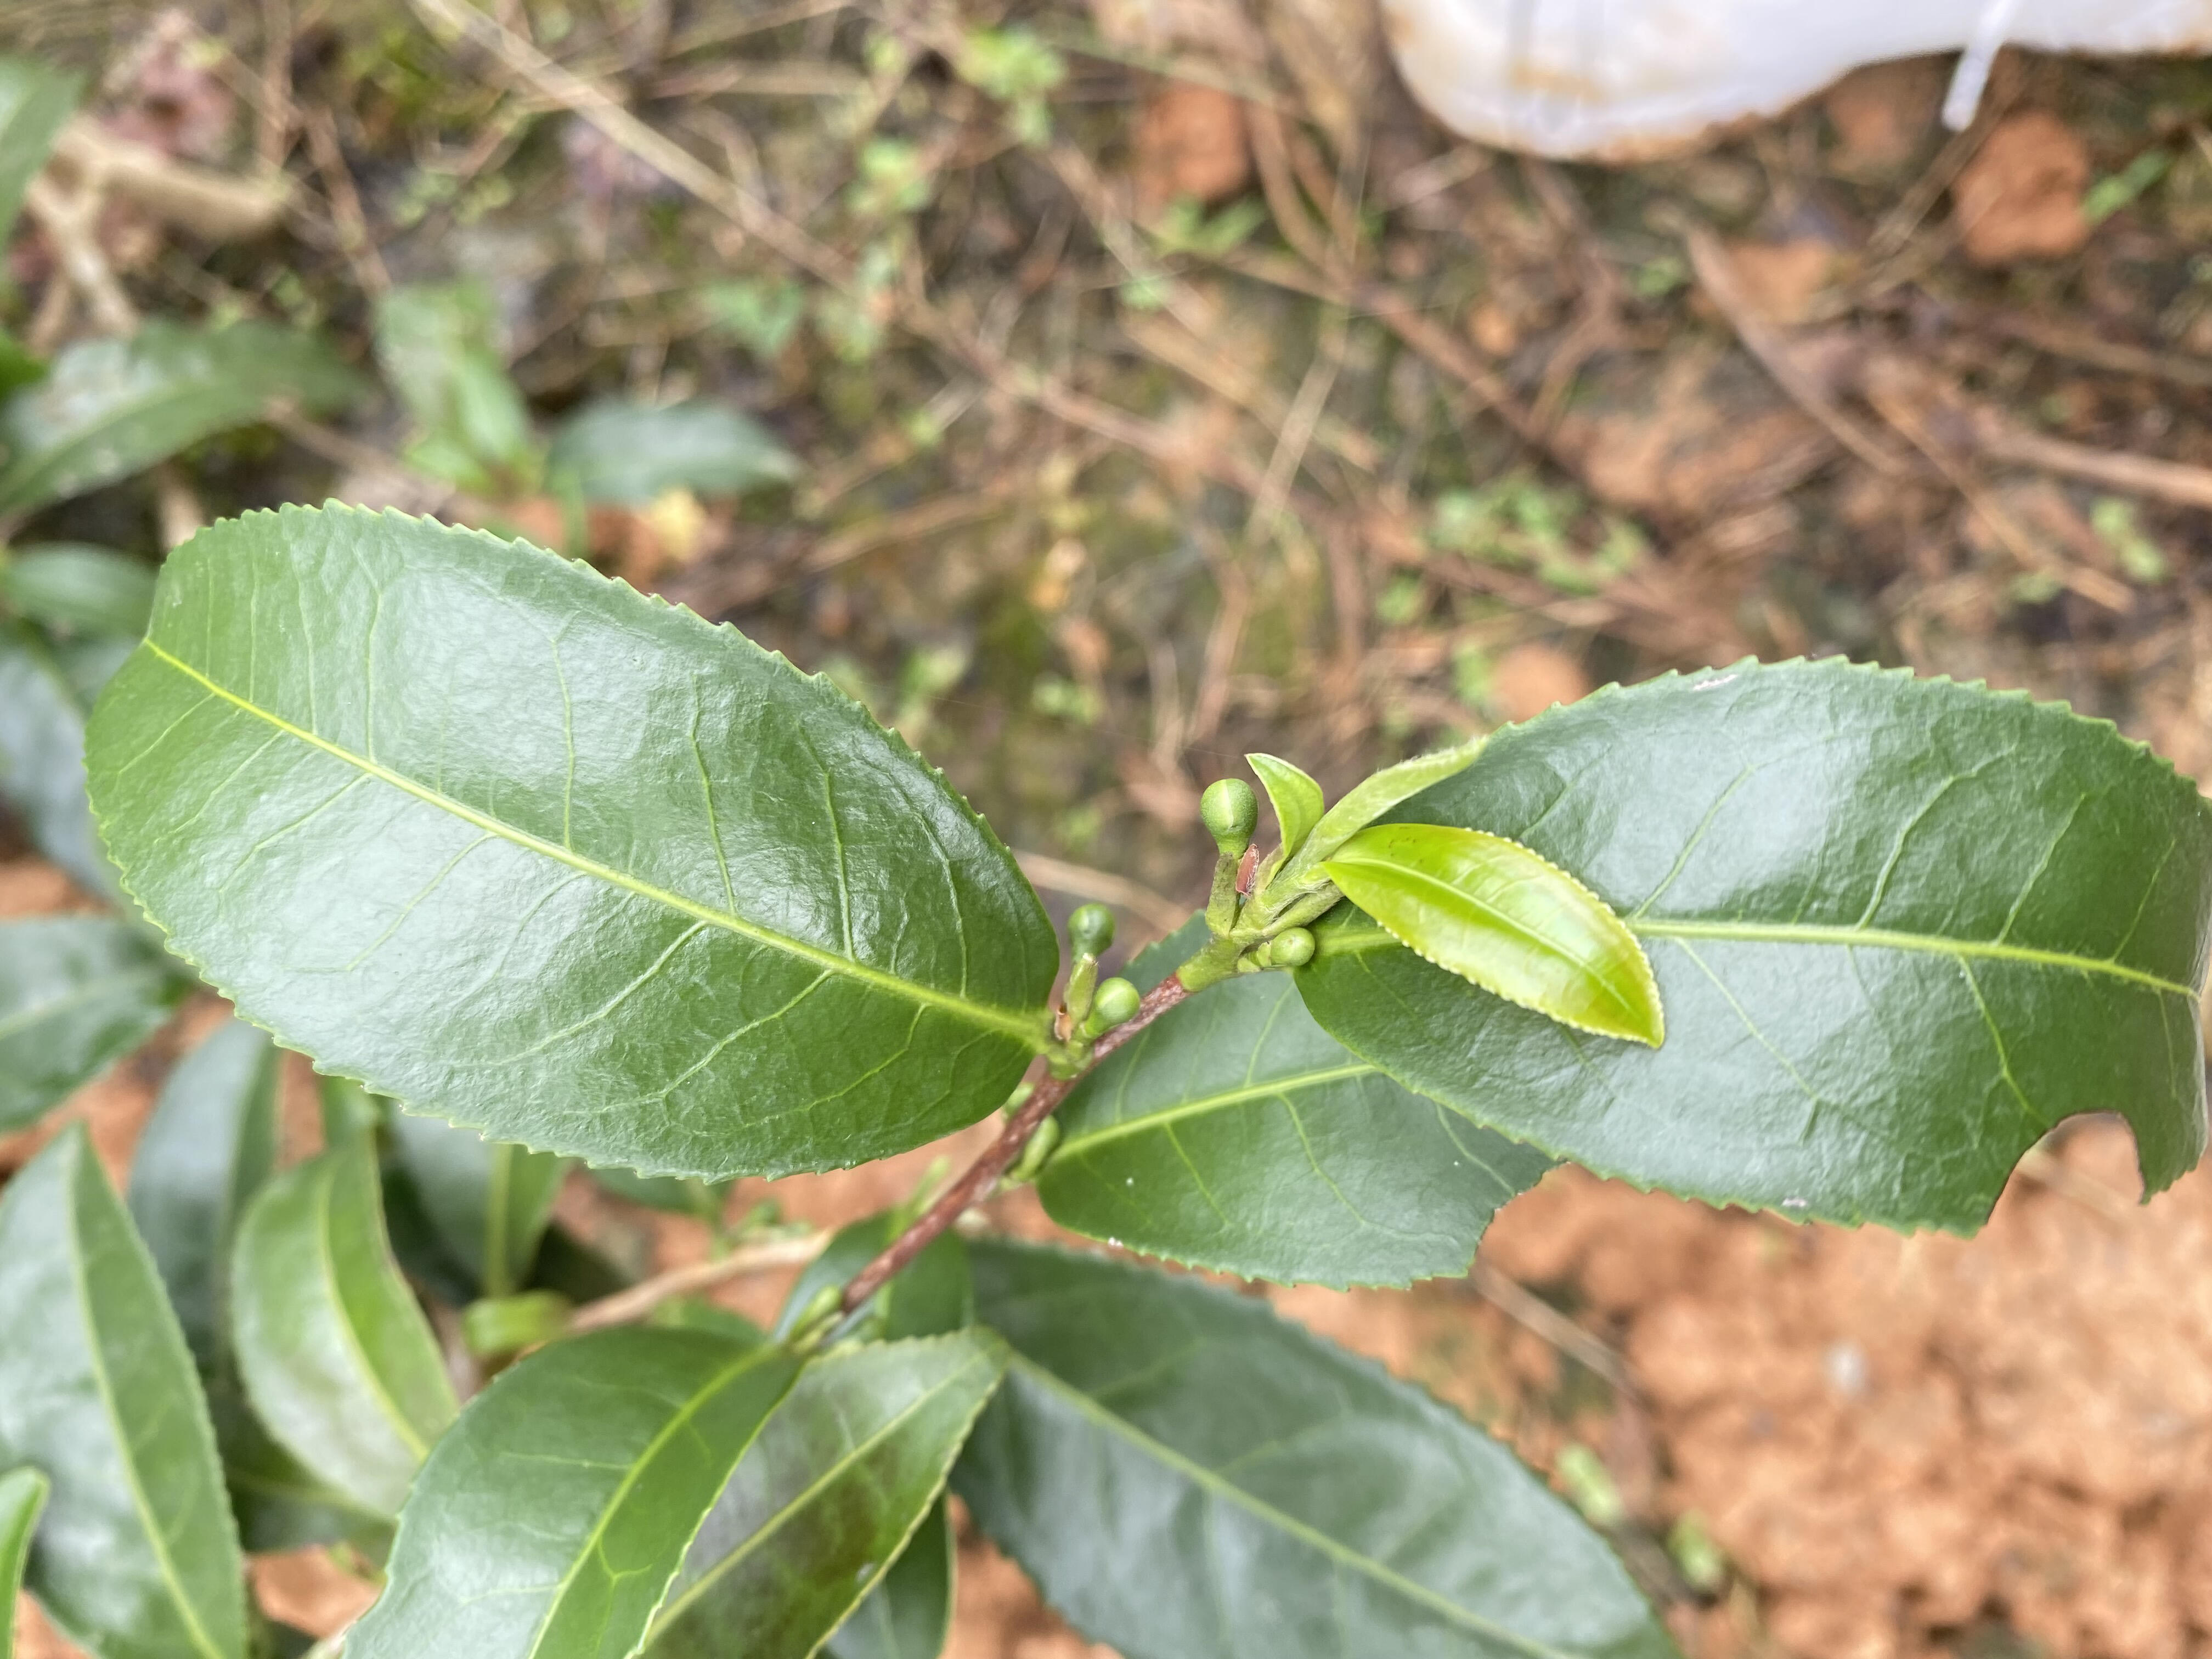chihuo_low: (1298, 655, 2210, 1237)
healthy: (80, 498, 1057, 1185), (341, 1323, 803, 1657), (1325, 821, 1665, 1042)
